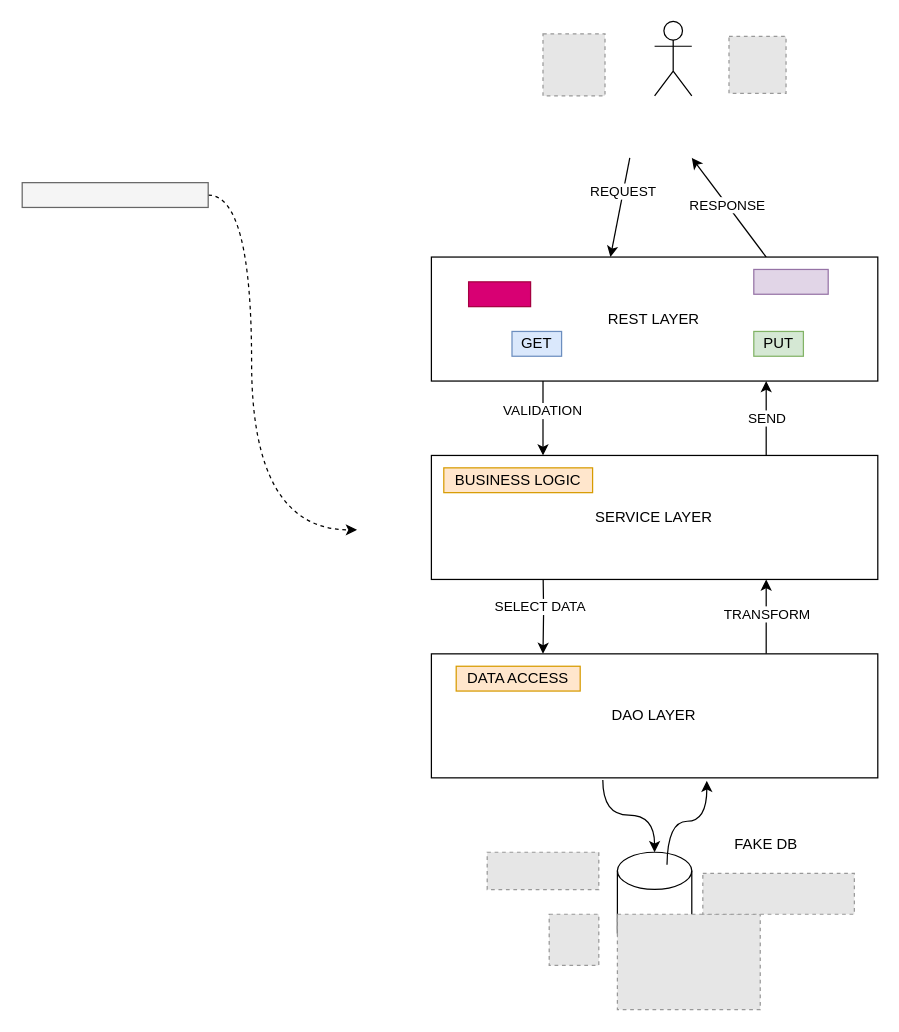
Some shapes in this 899 by 1032 pixel diagram are drawn without their labels. Grey dashed boxes stand in for pictures. Here are the shapes that lost their labels. From the top down, the centre of each, then its label:
At pixel 672 58: "CLIENTS".
At pixel 114 194: "N TIER ARCHITECTURE".
At pixel 499 294: "POST".
At pixel 790 281: "DELETE".
